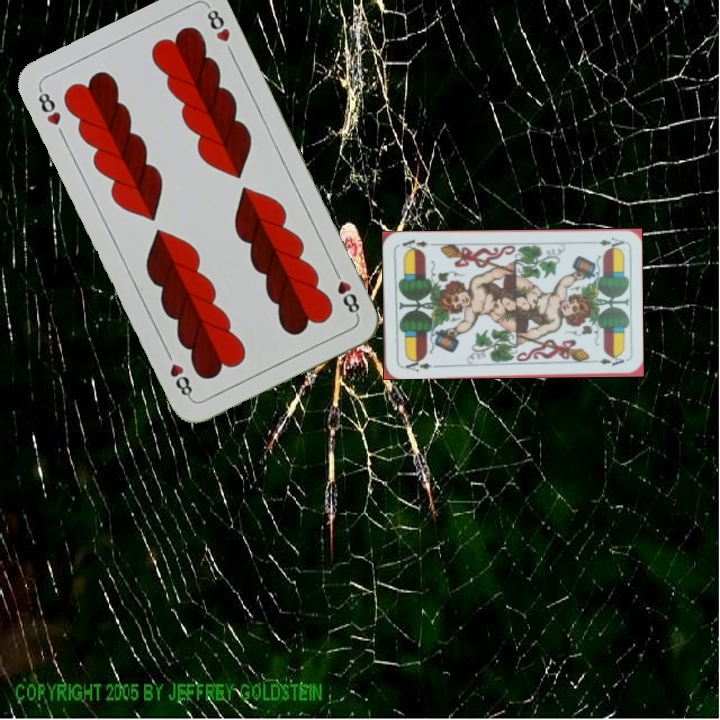EA: (398, 355, 439, 374), (585, 233, 626, 251)
H8: (329, 264, 363, 319), (34, 85, 64, 128)
